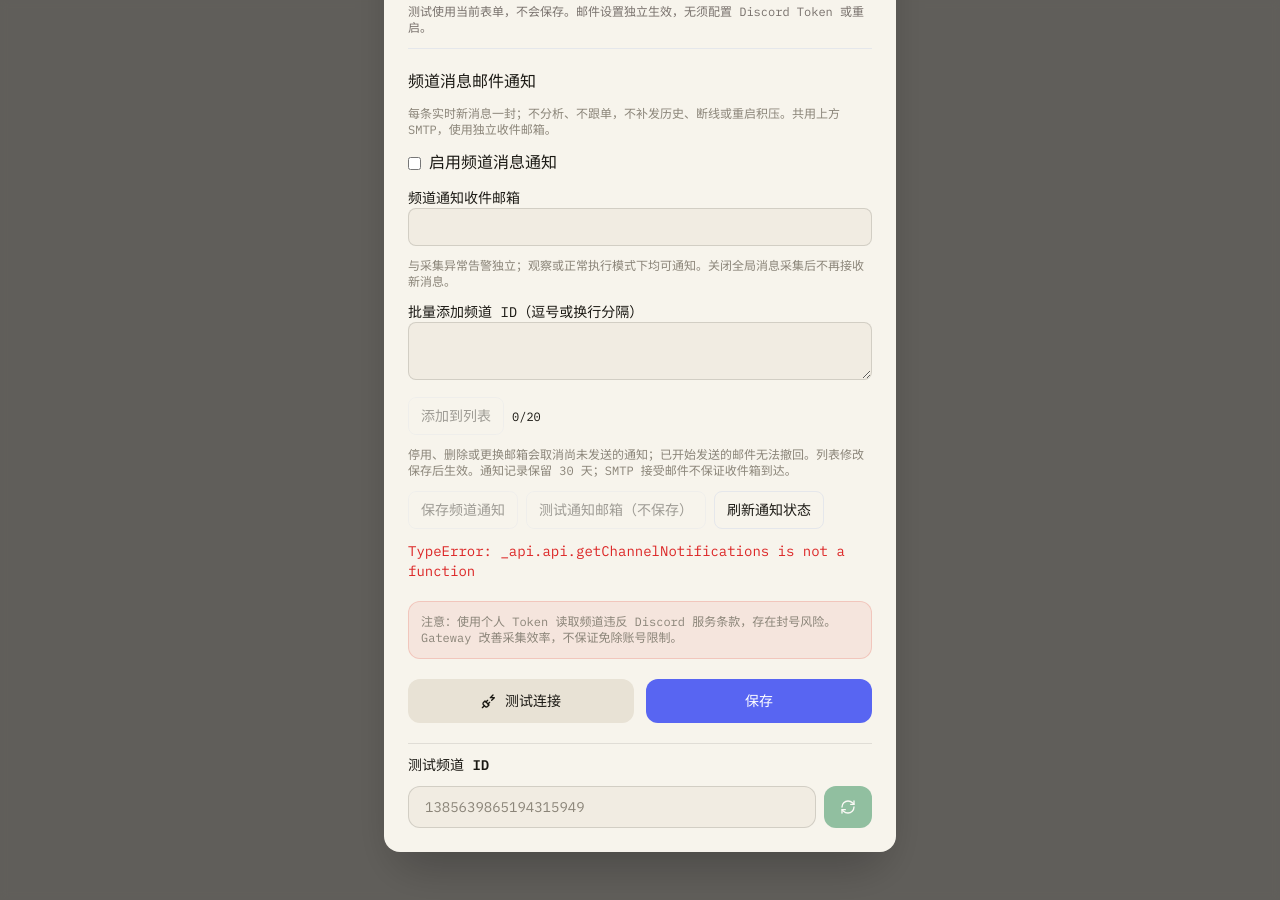
Test: shows the author id next to the author name in the channel preview
The width and height of the screenshot is (1280, 900).
(page scrolled)
Type "200" into the field with placeholder "1385639865194315949" at (612, 807), box [408,786,816,828]
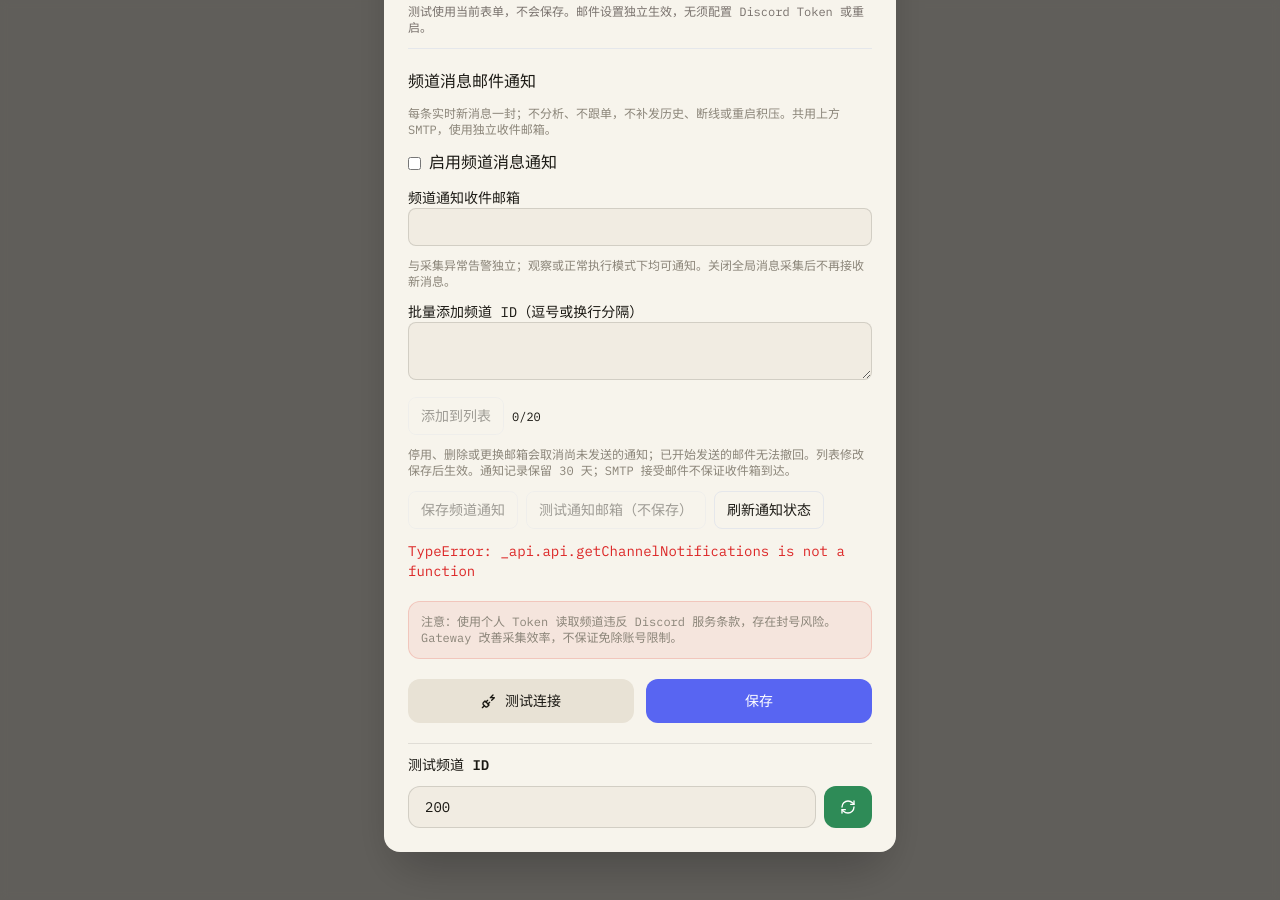
Click the 7th button at (848, 807), box [824,786,872,828]
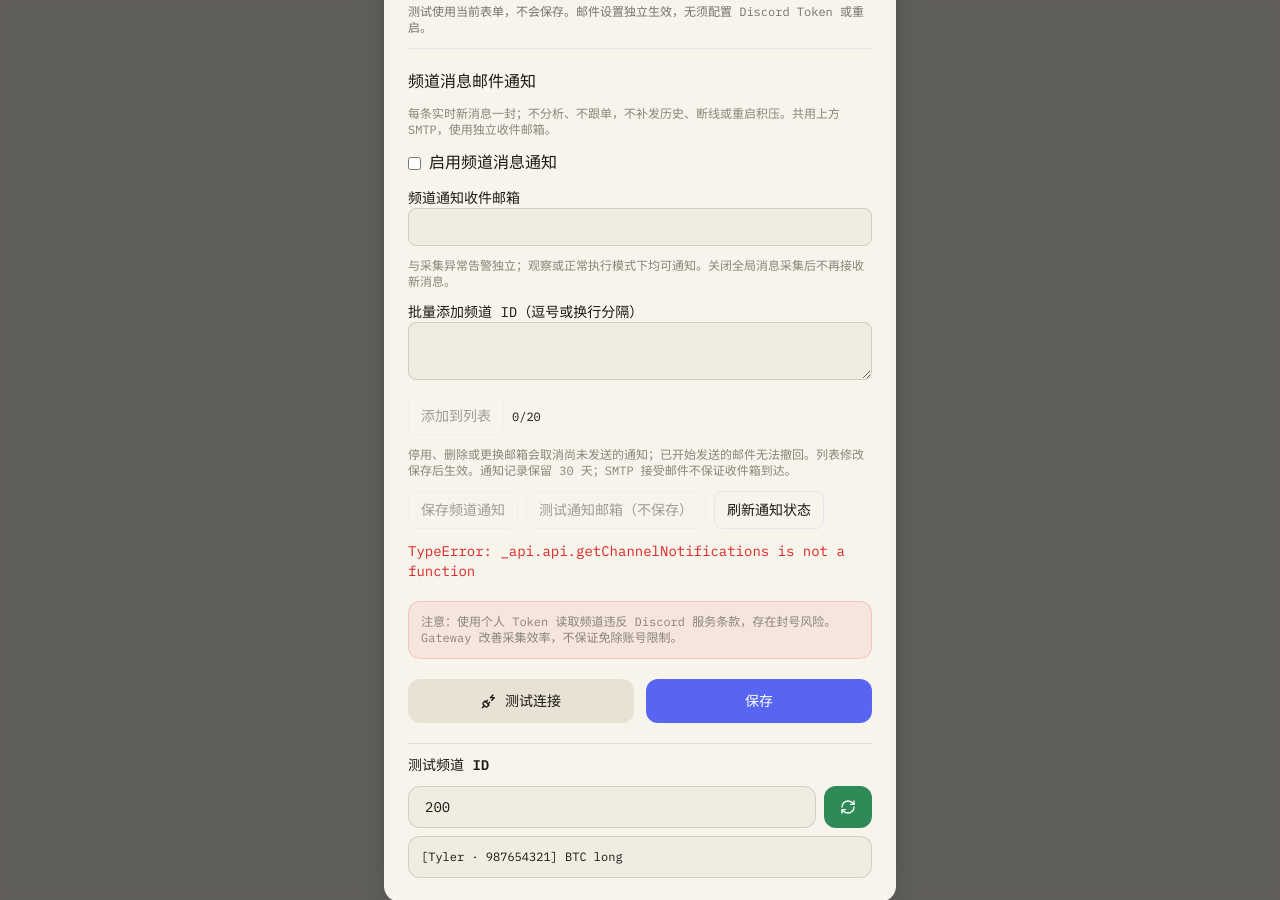
Result: the text "[Tyler · 987654321] BTC long" is shown at [421,849,623,864]
